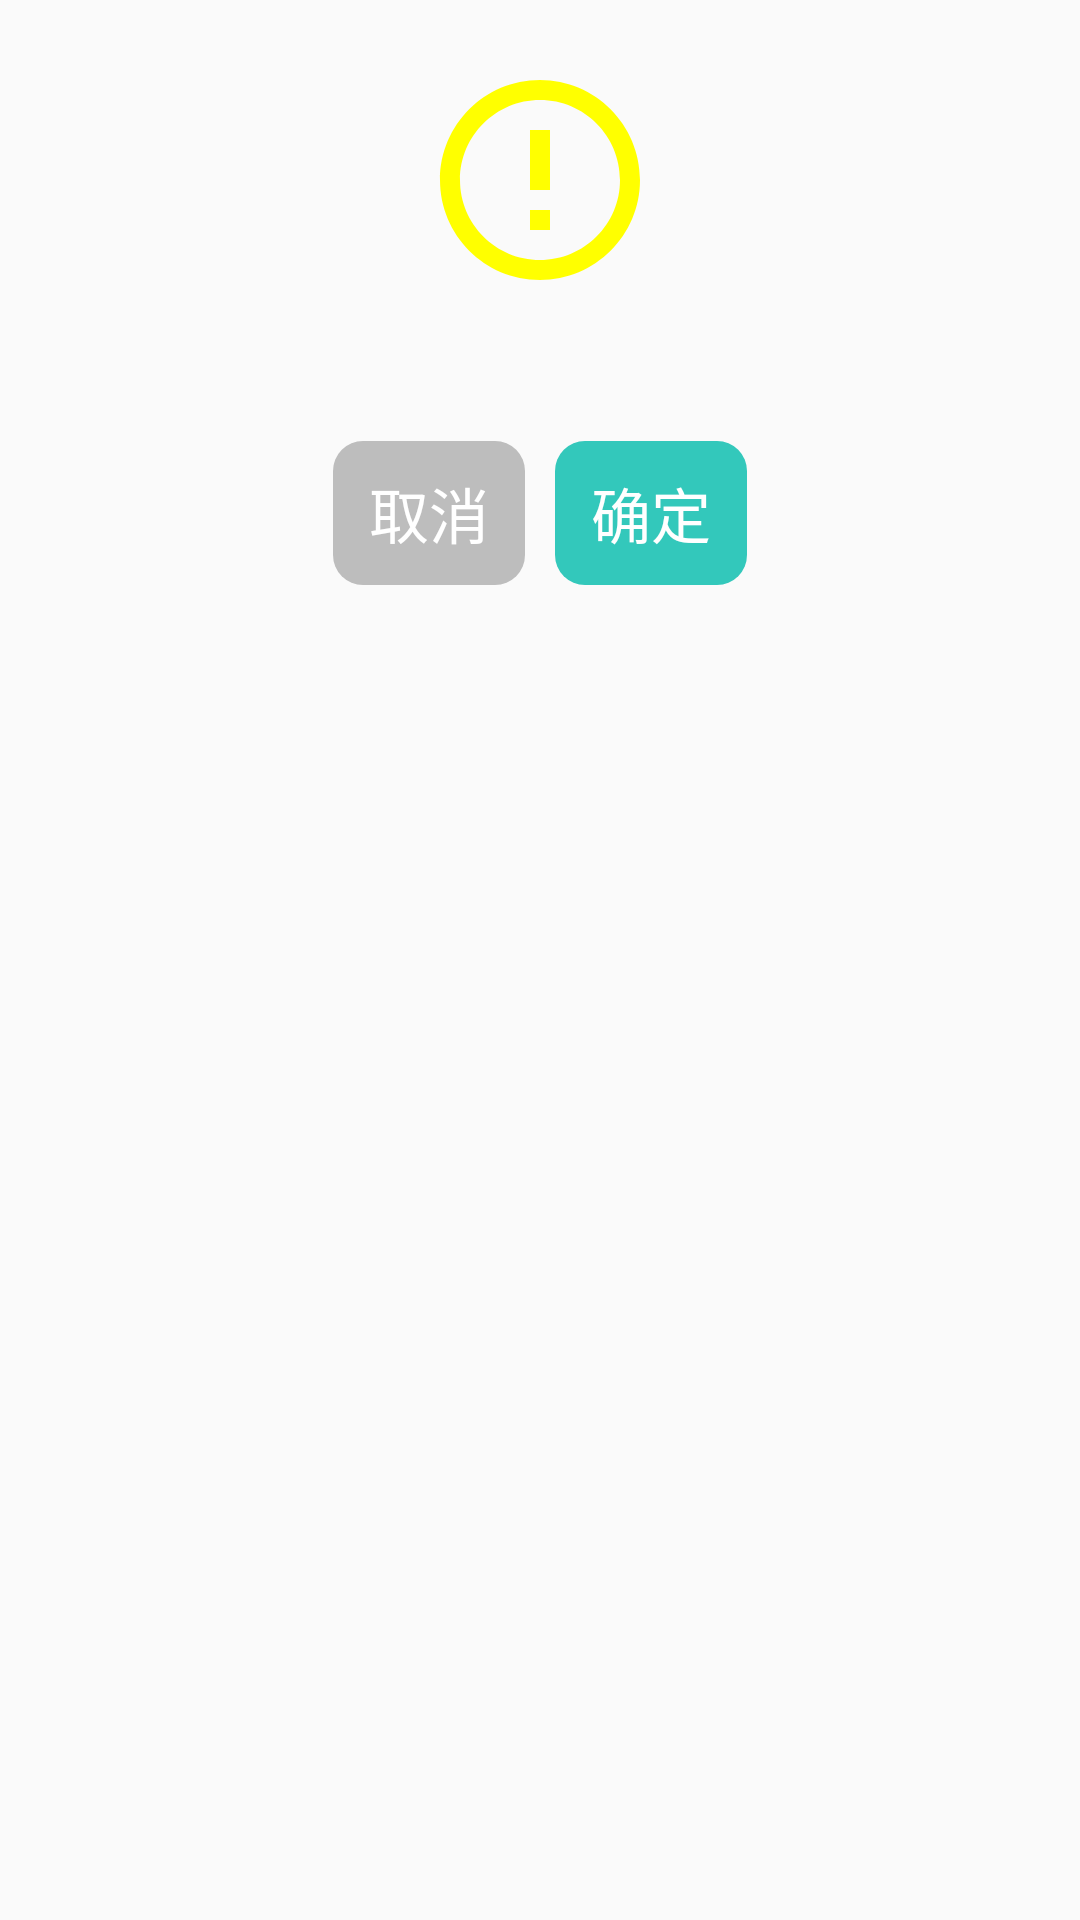

Icon bounding boxes for this 1080px×1920px phone screenshot, format bbox(x1, y1, x2, y2):
error: bbox(439, 80, 640, 280)
